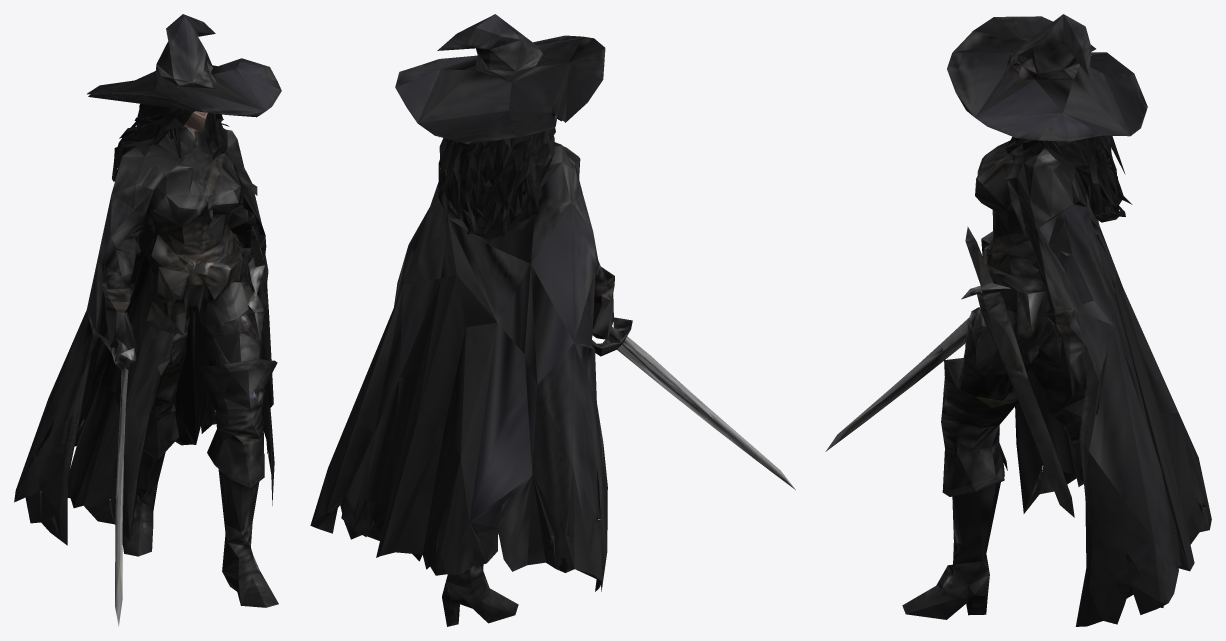
The model's file is nocturne.glb.
3 renders of one model, left to right at view 1: azimuth 30°, elevation 25°; view 2: azimuth 150°, elevation 25°; view 3: azimuth 270°, elevation 25°, orthographic. The views are drawn at different scales.
Visible parts, largest first — view 1: avatar; view 2: avatar; view 3: avatar.
Boxes of the visible parts, x1,y1,x2,y2 form: avatar: (14,14,281,626); avatar: (310,14,795,626); avatar: (825,14,1211,626).
Size of the model in its own units: 0.5777 by 1 by 0.5883.
1 material, 1 textured.
